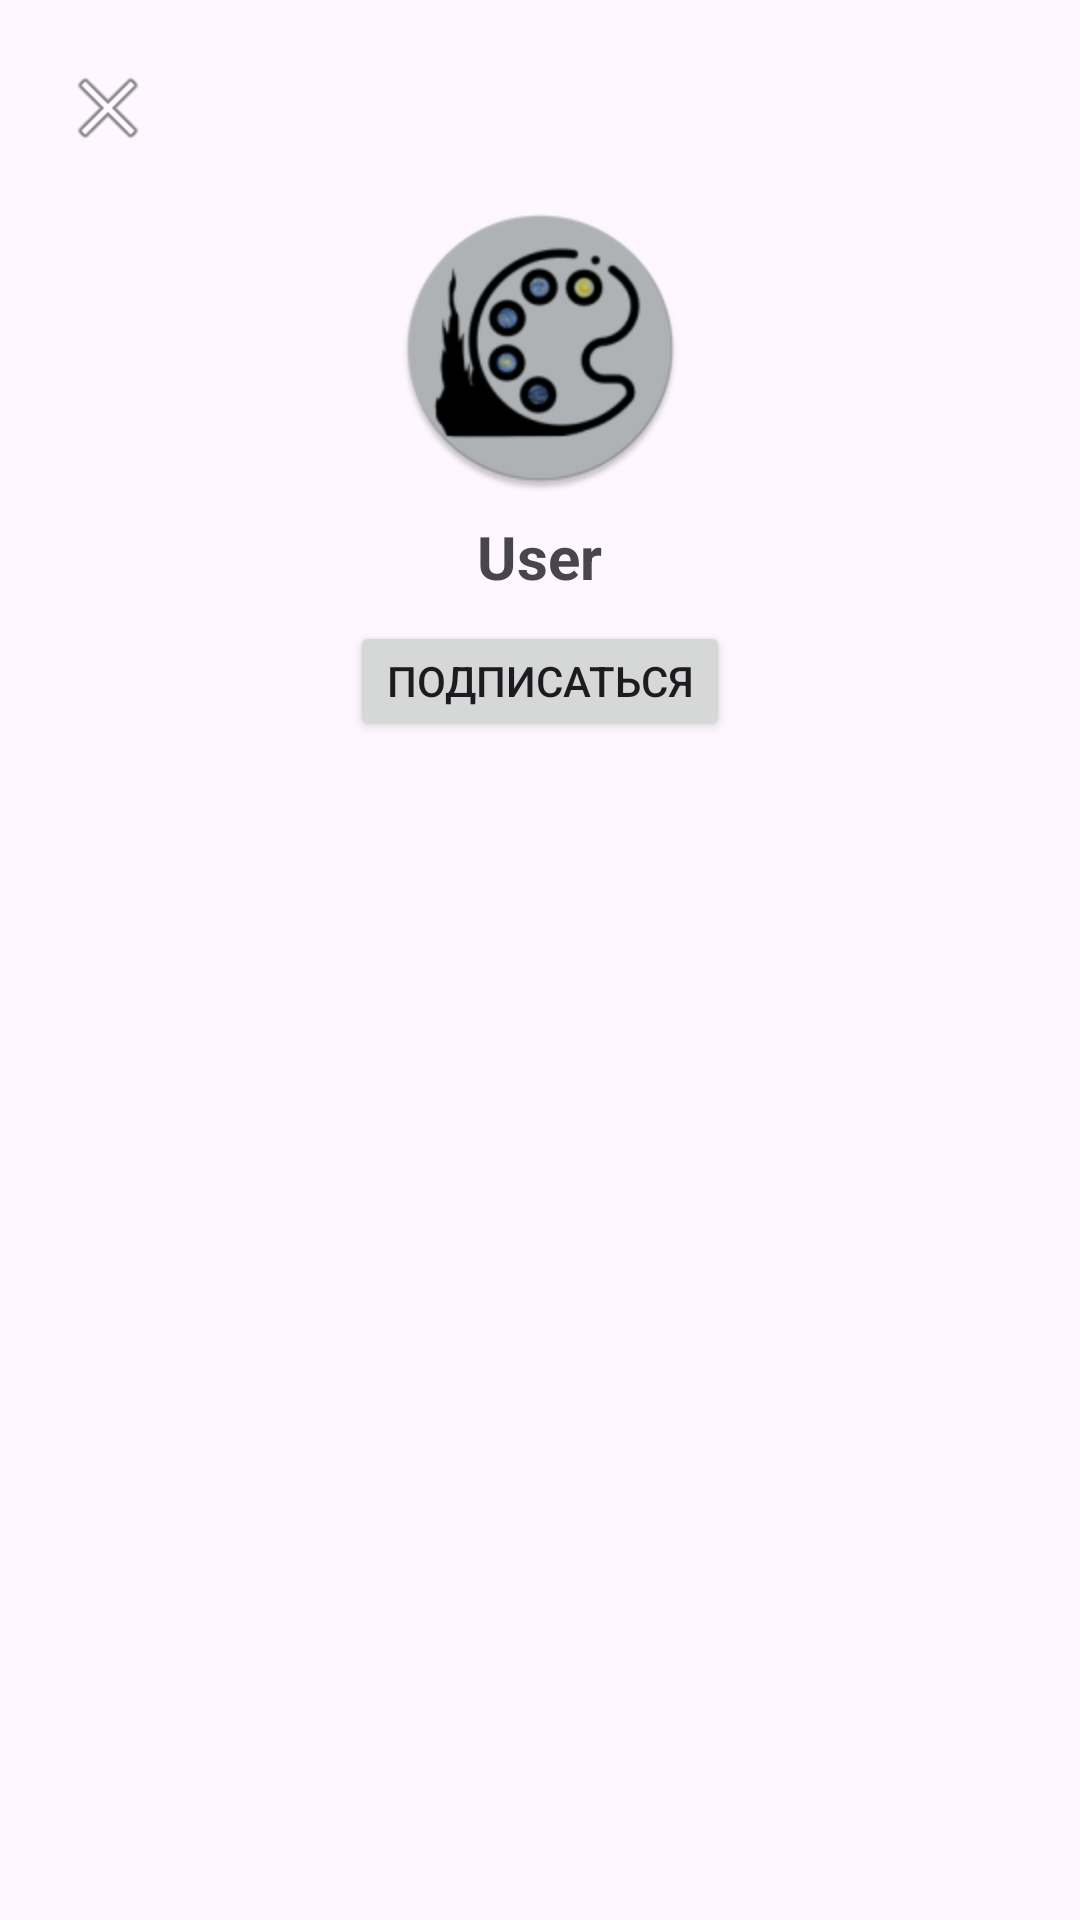

Locate icon controls on the screen. Image size 1080w x 1920h, boxes as Rect(x1, y1, x2, y2).
Close: Rect(78, 78, 138, 138)
